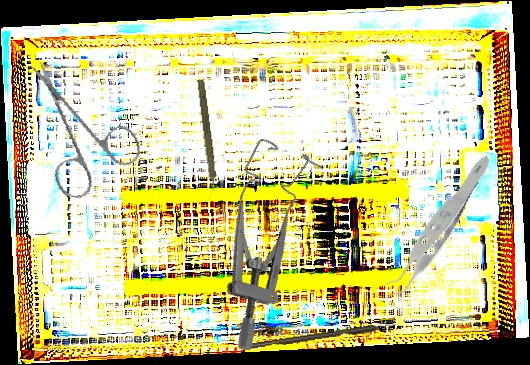Handpiece: (192, 79, 221, 199)
Hook Surgical: (246, 322, 397, 350)
Iris Scissors: (4, 60, 156, 210)
Speculum: (171, 130, 342, 356)
Tissue Forceps: (342, 153, 525, 304)
